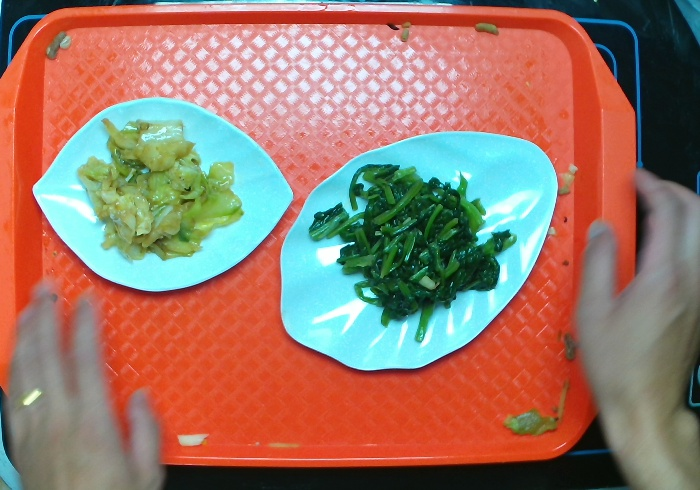RJxy-Bai_Ye_Pan: (278, 128, 560, 374)
RJxy-Da_Du_Pan: (29, 95, 295, 293)
